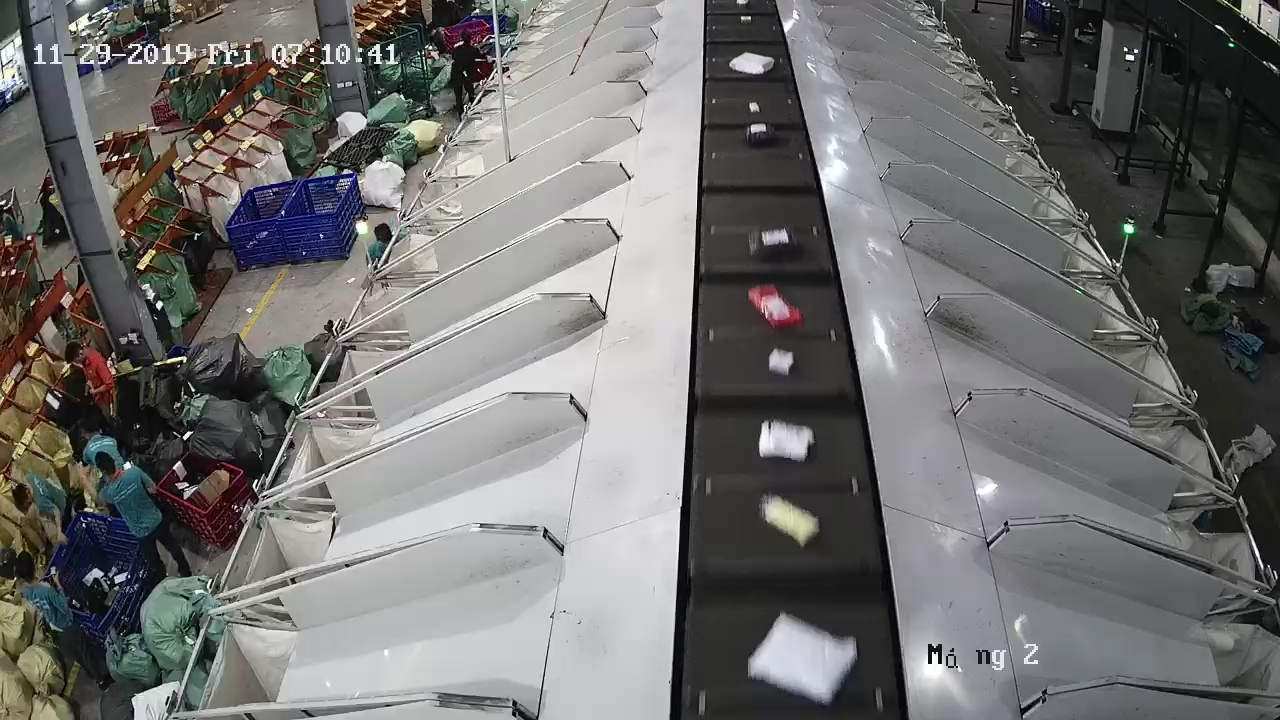parcel: (749, 614, 857, 707), (762, 497, 820, 549), (747, 282, 804, 330), (758, 418, 815, 463), (748, 225, 799, 260), (769, 347, 794, 376)
